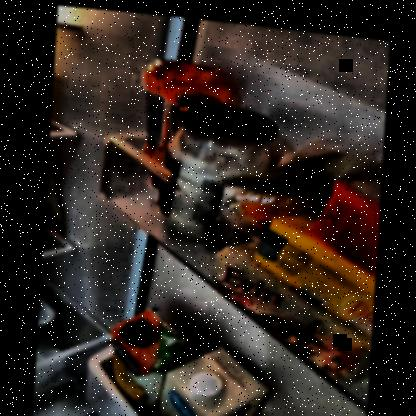butter: (216, 241, 375, 350)
milk: (164, 336, 259, 415)
